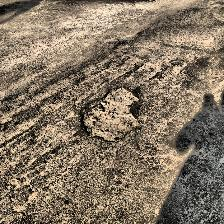pothole: (80, 87, 140, 143)
